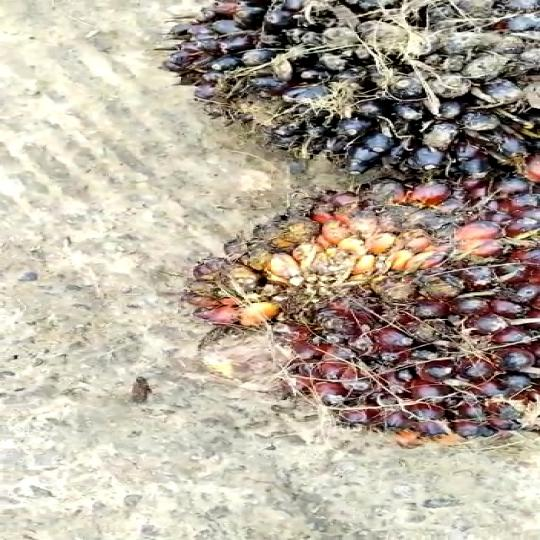kurang masak: (197, 179, 540, 471), (148, 2, 540, 205)
